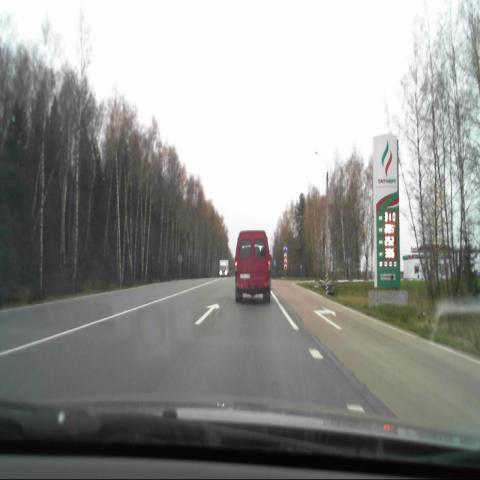4_2_3: (283, 242, 288, 253)
